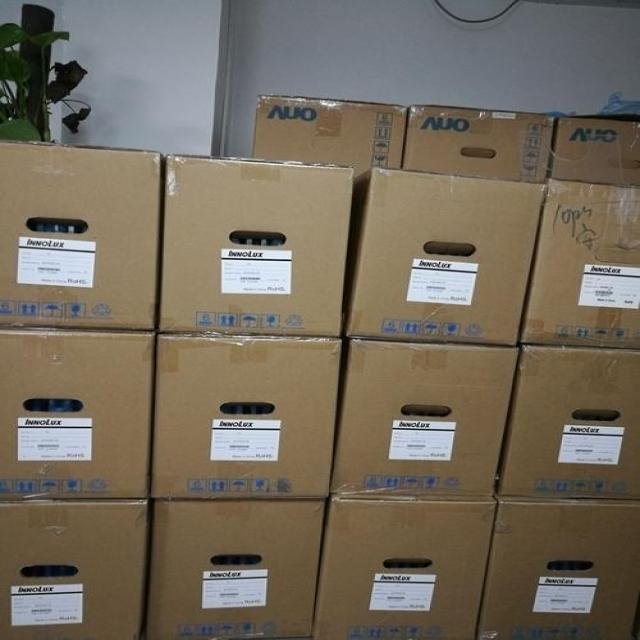box: (339, 168, 548, 349), (159, 154, 351, 337), (148, 333, 340, 497), (0, 140, 160, 329), (329, 338, 520, 496), (138, 496, 329, 640), (311, 495, 498, 640), (0, 325, 155, 499), (476, 495, 640, 640), (492, 342, 640, 500), (0, 499, 150, 640), (520, 178, 640, 350), (398, 103, 556, 188), (251, 95, 407, 175), (549, 111, 640, 187)
